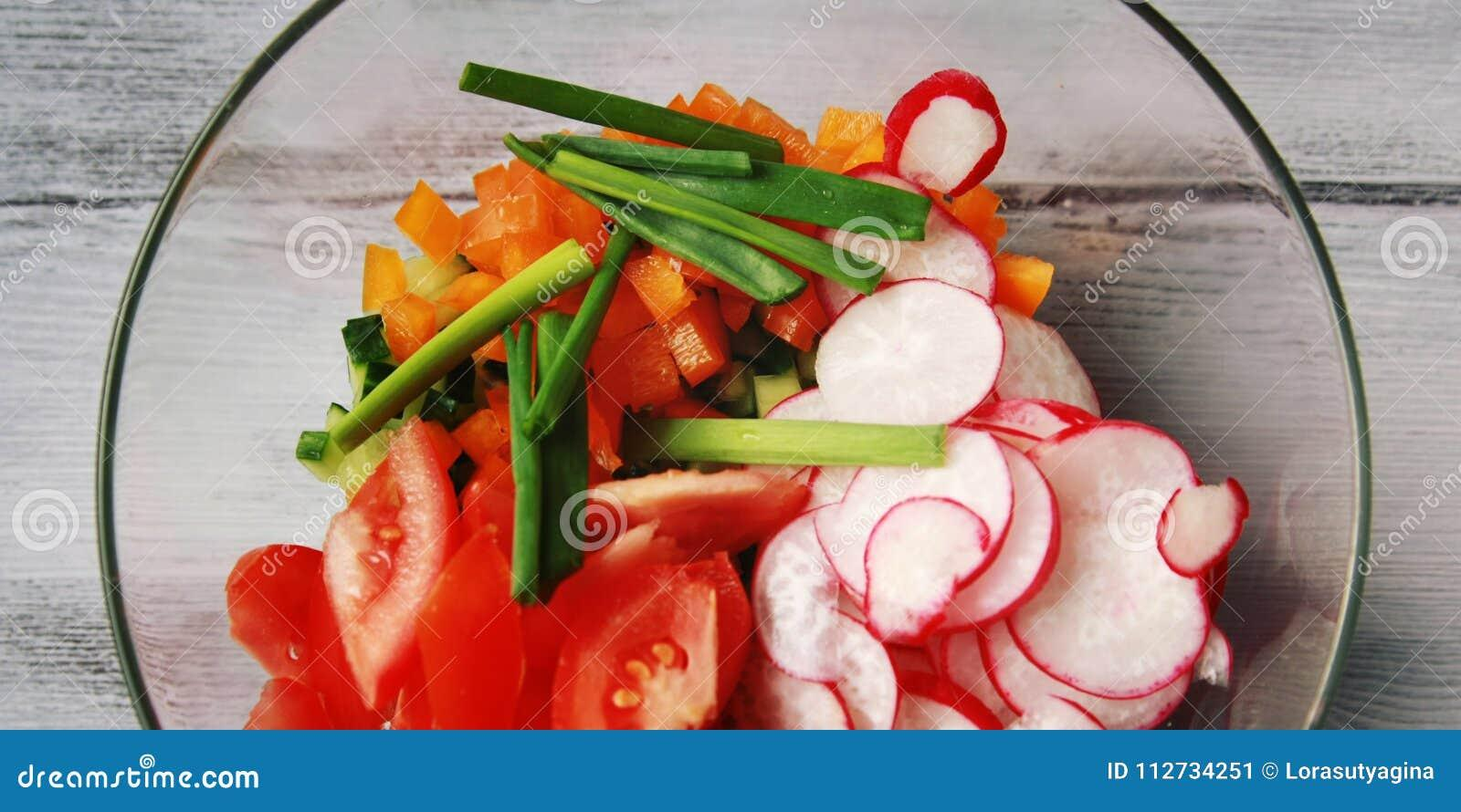beans: (455, 75, 900, 299)
tomato: (186, 491, 757, 740)
